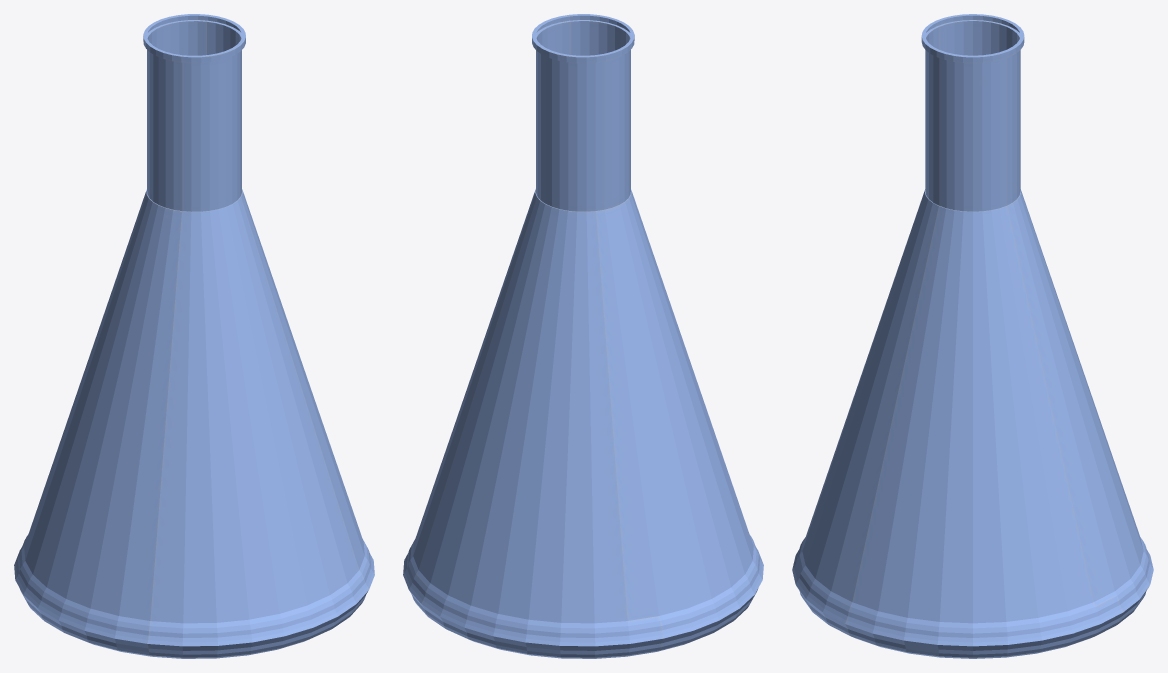
The model's file is matraz.obj.
The picture shows the model from 3 angles, left to right: view 1: azimuth 30°, elevation 25°; view 2: azimuth 150°, elevation 25°; view 3: azimuth 270°, elevation 25°; orthographic projection.
Visible parts, largest first — view 1: matraz; view 2: matraz; view 3: matraz.
Part boxes in pixels (box(x1,y1,x2,y2)): matraz: box(14, 14, 374, 658); matraz: box(403, 14, 763, 658); matraz: box(792, 14, 1153, 658).
Size of the model in its own units: 0.5324 by 0.8987 by 0.5324.
